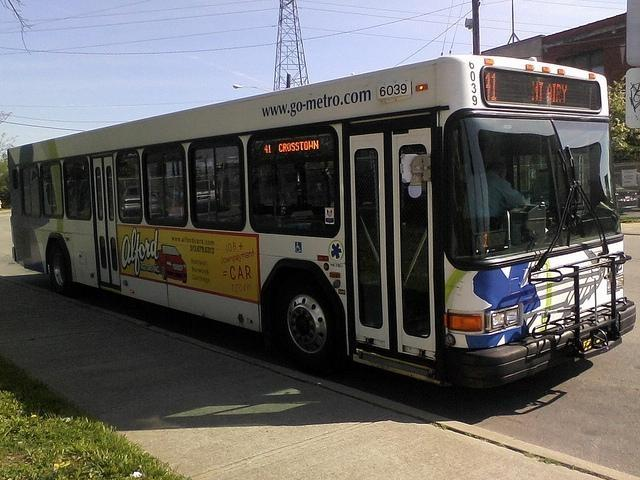bus: (6, 57, 635, 392)
car: (156, 244, 188, 284)
